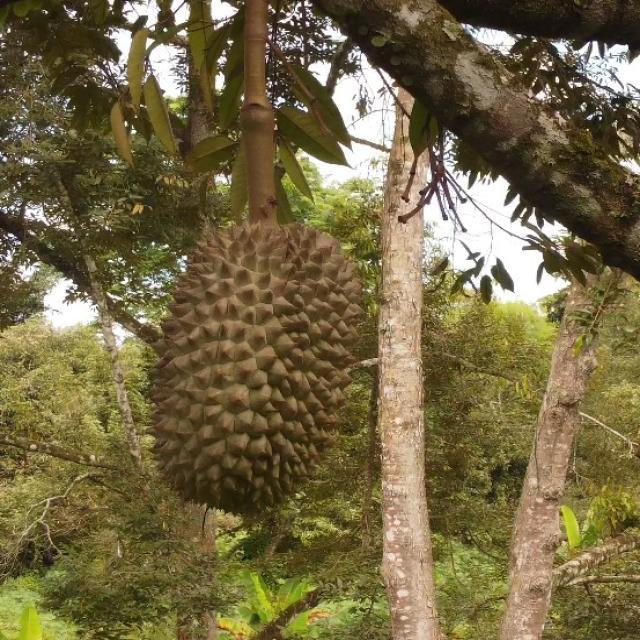mature: (147, 219, 367, 515)
